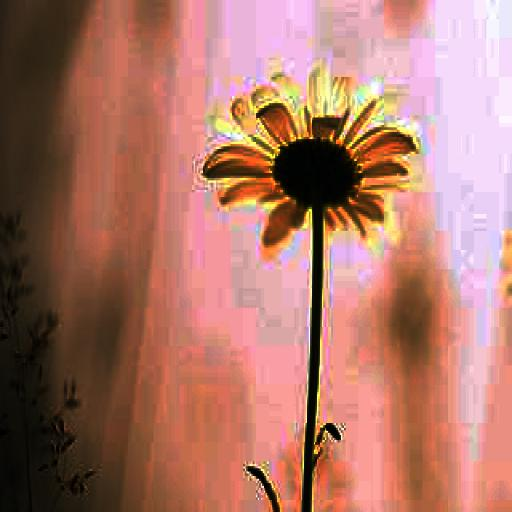daisy: (219, 79, 403, 231)
